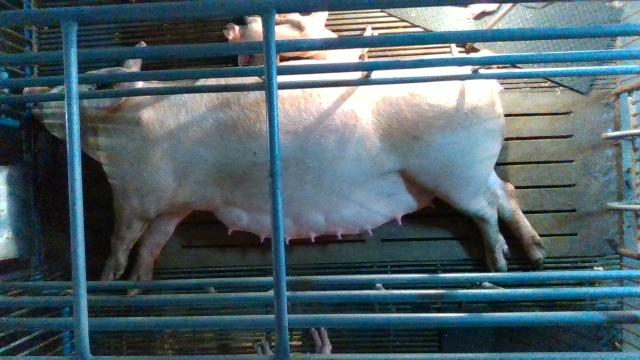piglet: (222, 4, 326, 66), (274, 11, 378, 73)
sow-sleep-lactate: (22, 40, 547, 298)
